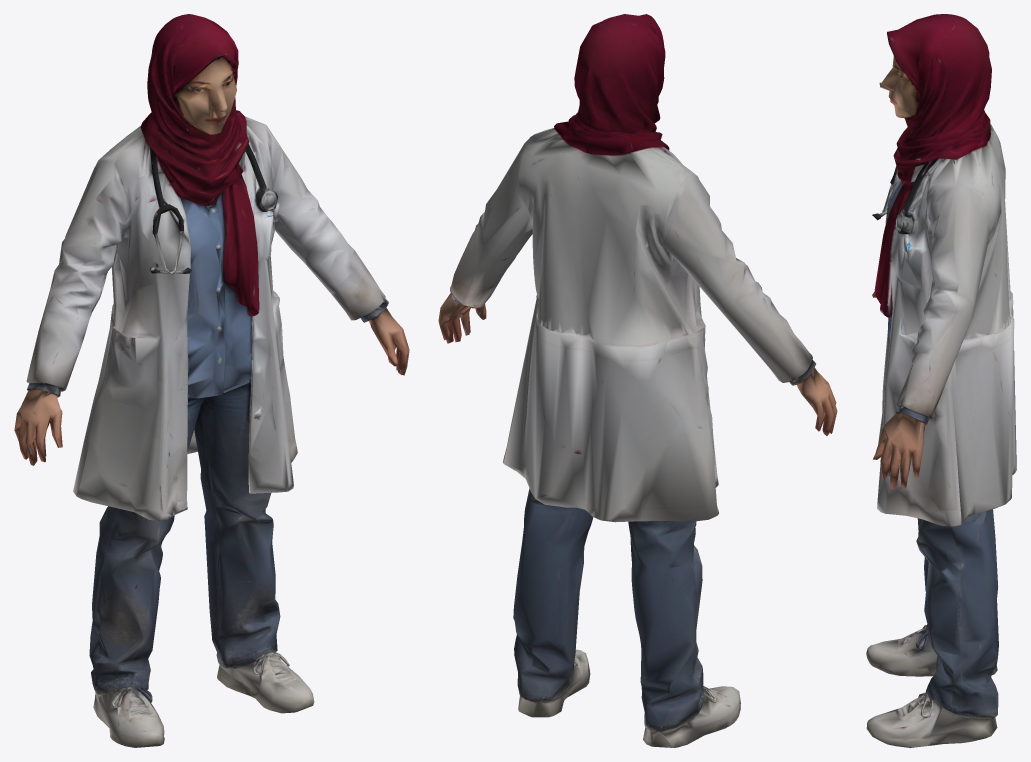
3 views of the same model, side by side, from view 1: azimuth 30°, elevation 25°; view 2: azimuth 150°, elevation 25°; view 3: azimuth 270°, elevation 25° (orthographic).
Visible parts, largest first — view 1: node_0; view 2: node_0; view 3: node_0.
Part boxes in pixels (left/top/right/bottom): node_0: left=14, top=14, right=409, bottom=747; node_0: left=438, top=14, right=837, bottom=747; node_0: left=866, top=14, right=1016, bottom=747.
Size of the model in its own units: 0.6768 by 1.16 by 0.2296.
Materials: 1 (1 with a texture image).
